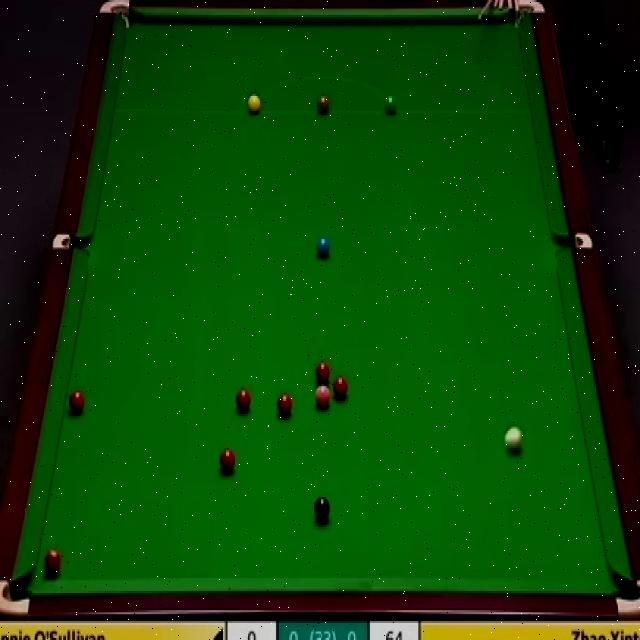black-ball: (314, 494, 331, 524)
blue-ball: (318, 237, 330, 261)
brown-ball: (317, 96, 330, 115)
green-ball: (385, 95, 397, 115)
pink-ball: (313, 383, 331, 411)
red-ball: (67, 389, 87, 416), (44, 550, 63, 578), (314, 357, 332, 384), (218, 448, 235, 474), (332, 372, 348, 399), (235, 388, 251, 413), (275, 394, 292, 417)
white-ball: (504, 422, 524, 457)
yellow-ball: (247, 93, 262, 115)
